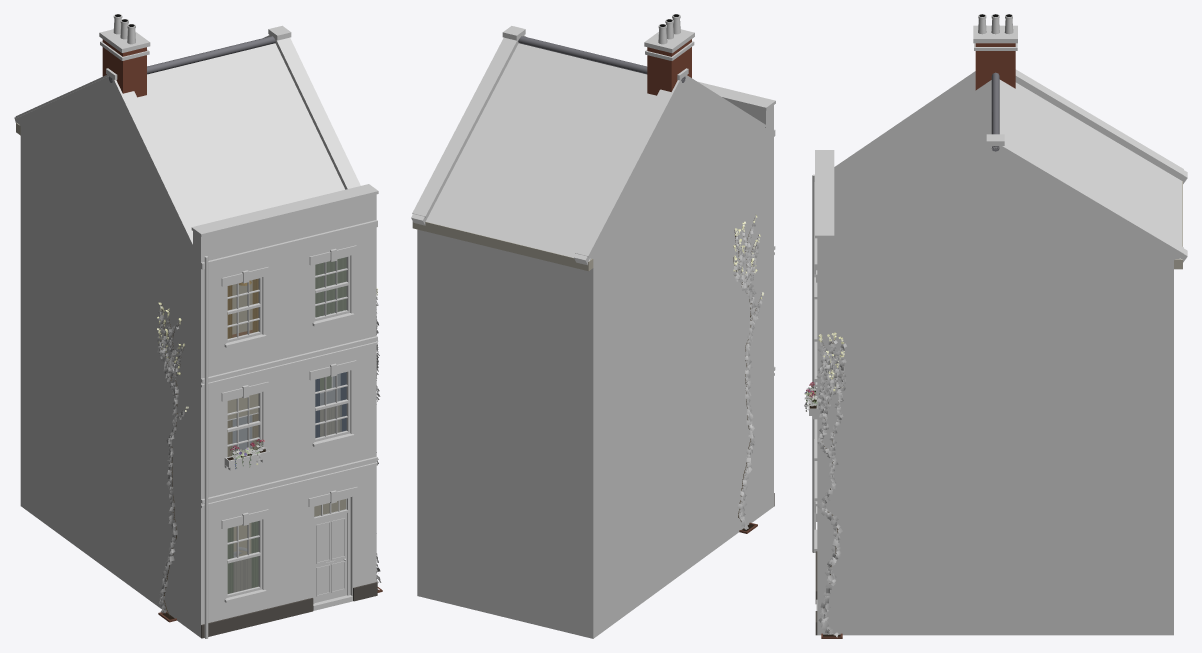
The model's file is GateStreet_BehindOuter4.glb.
3 renders of one model, left to right at view 1: azimuth 30°, elevation 25°; view 2: azimuth 150°, elevation 25°; view 3: azimuth 270°, elevation 25°, orthographic.
Parts seen in each view (by area): view 1: GateStreet_BehindOuter4; view 2: GateStreet_BehindOuter4; view 3: GateStreet_BehindOuter4.
Part boxes in pixels (box(x1,y1,x2,y2)): GateStreet_BehindOuter4: box(14, 14, 382, 638); GateStreet_BehindOuter4: box(411, 14, 775, 638); GateStreet_BehindOuter4: box(804, 14, 1187, 638).
Bounding box in the file's own units: 4.94 × 13.4 × 8.61.
